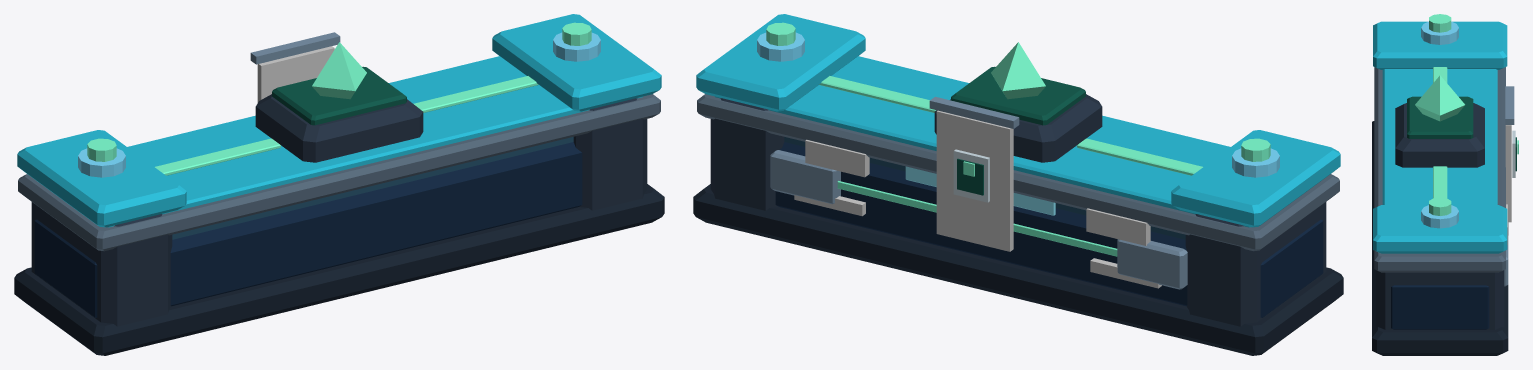
File: S2_PlayerBase.obj
3 views of the same model, side by side, from view 1: azimuth 30°, elevation 25°; view 2: azimuth 150°, elevation 25°; view 3: azimuth 270°, elevation 25° (orthographic). The views are drawn at different scales.
Visible parts, largest first — view 1: BaseBody_2, Platform_1, ArmorRim_5, TopDeck_4, PylonCrown_7, PylonCrown_12, PylonBase_6, CentralShieldFrame_16, PylonBase_11, CoreCover_17, SteelWall_3, FINAL_TealBattleStandard_7 (+8 smaller); view 2: Platform_1, ArmorRim_5, BaseBody_2, TopDeck_4, PylonCrown_7, PylonCrown_12, FINAL_TealBattleStandard_7, PylonBase_6, PylonBase_11, CentralShieldFrame_16, CoreCover_17, BraceFront_10 (+18 smaller); view 3: ArmorRim_5, PylonCrown_12, PylonCrown_7, TopDeck_4, BaseBody_2, Platform_1, CentralShieldFrame_16, PylonBase_11, CoreCover_17, ShieldCore_18, FINAL_TealBattleStandard_7, PylonReactor_8 (+8 smaller).
Part boxes in pixels (left/top/right/bottom): BaseBody_2: left=34, top=142, right=582, bottom=317; Platform_1: left=14, top=184, right=664, bottom=355; ArmorRim_5: left=108, top=56, right=642, bottom=227; TopDeck_4: left=18, top=94, right=660, bottom=251; PylonCrown_7: left=17, top=130, right=186, bottom=227; PylonCrown_12: left=492, top=14, right=661, bottom=111; PylonBase_6: left=31, top=202, right=172, bottom=326; CentralShieldFrame_16: left=255, top=94, right=423, bottom=162; PylonBase_11: left=573, top=98, right=647, bottom=210; CoreCover_17: left=272, top=66, right=406, bottom=125; SteelWall_3: left=172, top=137, right=573, bottom=239; FINAL_TealBattleStandard_7: left=257, top=46, right=334, bottom=102; Platform_1: left=693, top=184, right=1343, bottom=355; ArmorRim_5: left=715, top=56, right=1249, bottom=227; BaseBody_2: left=775, top=142, right=1323, bottom=317; TopDeck_4: left=697, top=94, right=1339, bottom=251; PylonCrown_7: left=1171, top=130, right=1340, bottom=227; PylonCrown_12: left=696, top=14, right=865, bottom=111; FINAL_TealBattleStandard_7: left=936, top=110, right=1013, bottom=251; PylonBase_6: left=1185, top=202, right=1326, bottom=326; PylonBase_11: left=710, top=98, right=784, bottom=210; CentralShieldFrame_16: left=934, top=94, right=1102, bottom=162; CoreCover_17: left=951, top=66, right=1085, bottom=125; BraceFront_10: left=1117, top=239, right=1187, bottom=289; ArmorRim_5: left=1382, top=69, right=1497, bottom=204; PylonCrown_12: left=1373, top=205, right=1507, bottom=253; PylonCrown_7: left=1373, top=21, right=1507, bottom=69; TopDeck_4: left=1374, top=67, right=1505, bottom=272; BaseBody_2: left=1391, top=285, right=1489, bottom=329; Platform_1: left=1372, top=121, right=1508, bottom=355; CentralShieldFrame_16: left=1395, top=103, right=1484, bottom=167; PylonBase_11: left=1376, top=270, right=1504, bottom=329; CoreCover_17: left=1407, top=96, right=1473, bottom=138; ShieldCore_18: left=1415, top=75, right=1464, bottom=121; FINAL_TealBattleStandard_7: left=1505, top=125, right=1511, bottom=222; PylonReactor_8: left=1421, top=21, right=1458, bottom=44.
Bounding box in the file's own units: 5.36 × 1.96 × 1.51.
